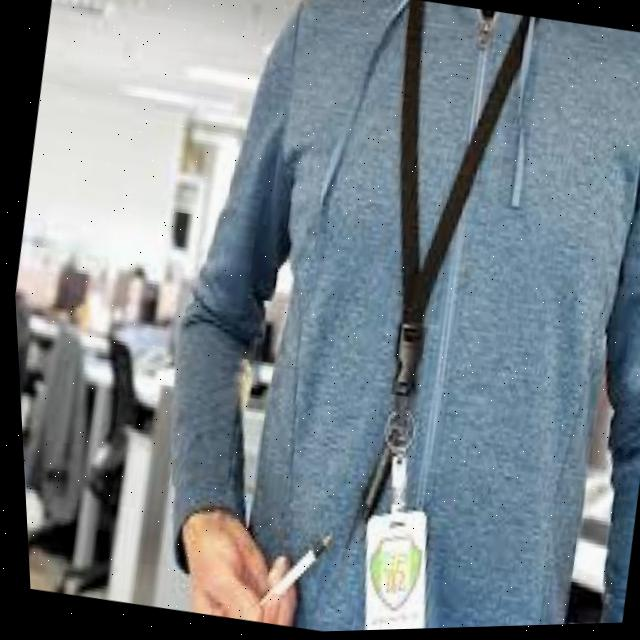id_card: (272, 10, 552, 634)
